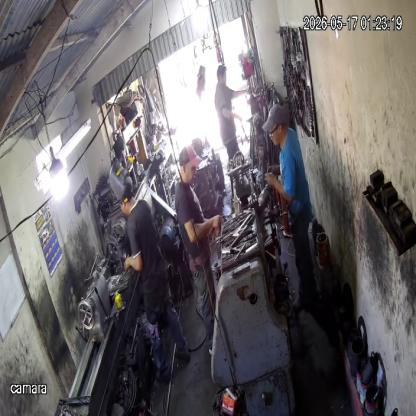lentes: (268, 123, 280, 136)
